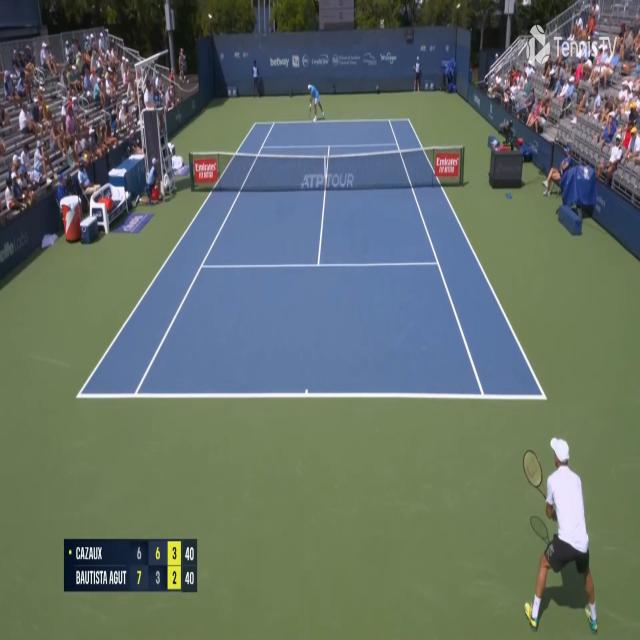tennis-player: (520, 432, 600, 639), (306, 82, 326, 123)
